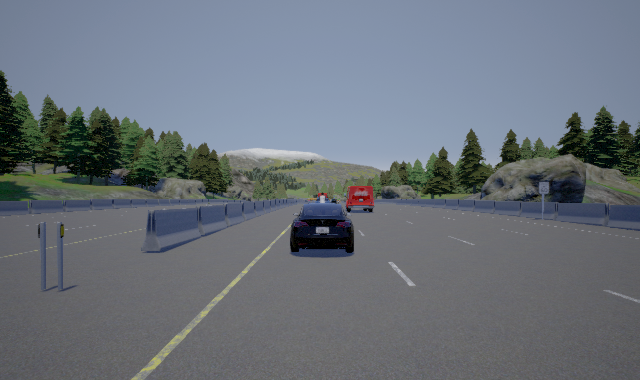traffic_sign: (539, 182, 549, 194)
vehicle: (290, 193, 354, 253), (345, 186, 376, 212)
